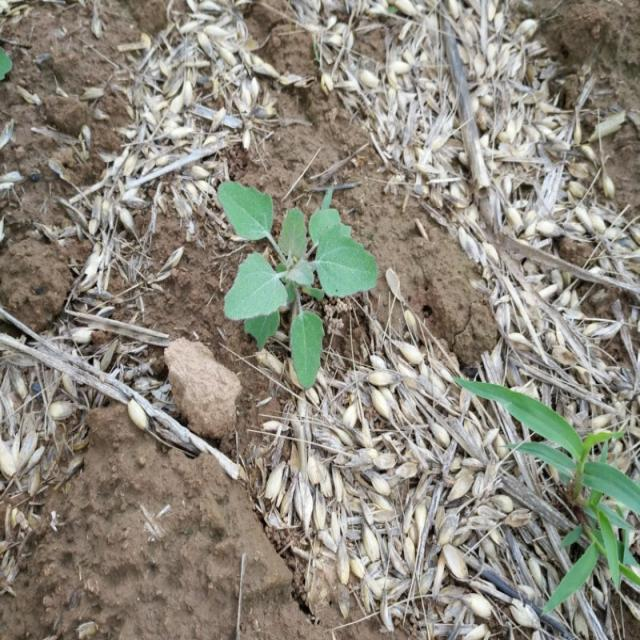goosefoots: (199, 151, 392, 381)
